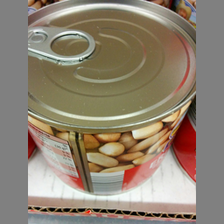nuts: (28, 1, 196, 194)
